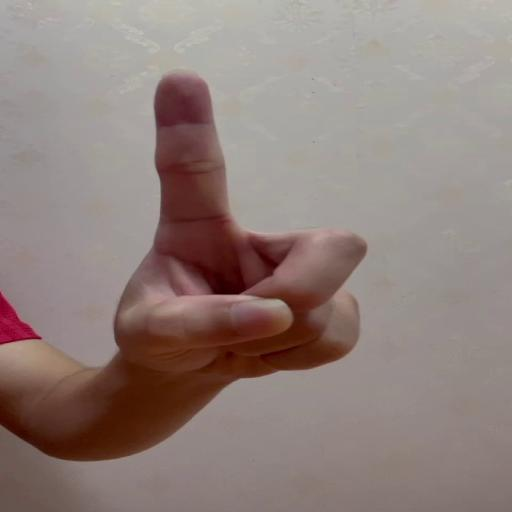point: (142, 69, 371, 377)
